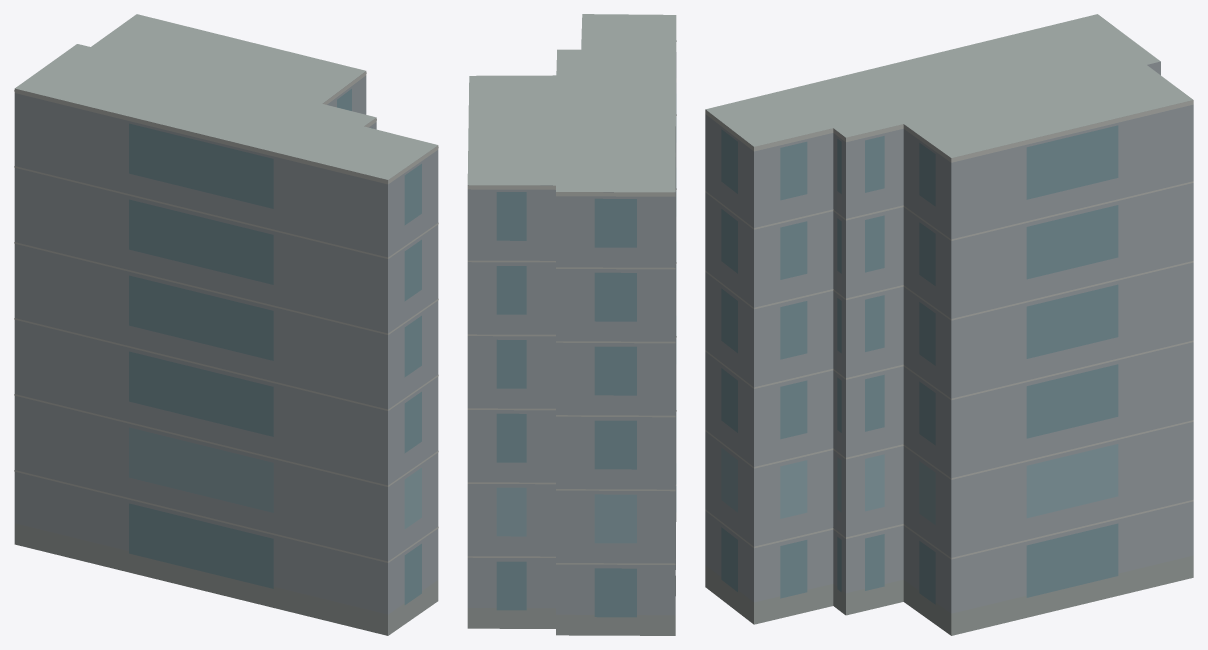
Rendered from survey-upis-32910246.glb.
The picture shows the model from 3 angles, left to right: view 1: azimuth 30°, elevation 25°; view 2: azimuth 150°, elevation 25°; view 3: azimuth 270°, elevation 25°; orthographic projection. The views are drawn at different scales.
Visible parts, largest first — view 1: survey-upis-32910246.tmp; view 2: survey-upis-32910246.tmp; view 3: survey-upis-32910246.tmp.
Boxes of the visible parts, x1,y1,x2,y2 form: survey-upis-32910246.tmp: (14,14,438,635); survey-upis-32910246.tmp: (467,14,676,635); survey-upis-32910246.tmp: (705,14,1193,635).
Size of the model in its own units: 16.13 by 24.9 by 23.08.
